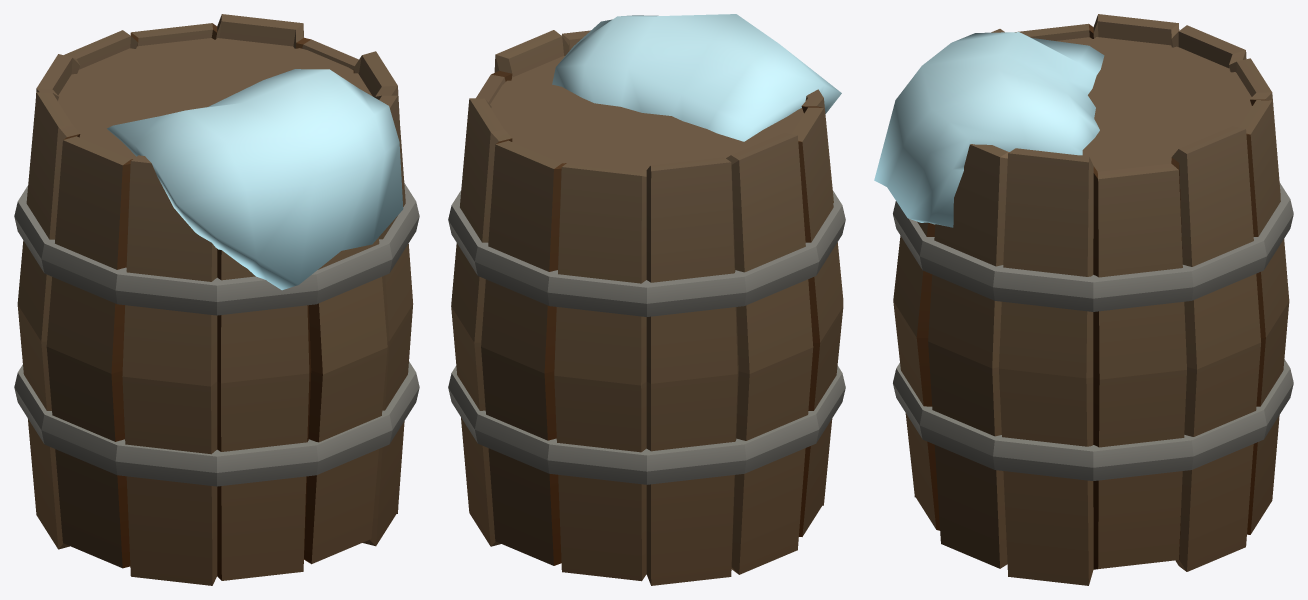
The model's file is Barrel_Winter_0_1.fbx.
3 renders of one model, left to right at view 1: azimuth 30°, elevation 25°; view 2: azimuth 150°, elevation 25°; view 3: azimuth 270°, elevation 25°, orthographic.
Parts seen in each view (by area): view 1: Cylinder.009; view 2: Cylinder.009; view 3: Cylinder.009.
Part boxes in pixels (x1,y1,x2,y2): Cylinder.009: (14,14,419,585); Cylinder.009: (448,14,845,585); Cylinder.009: (874,14,1293,585).
Size of the model in its own units: 104 by 131 by 109.
